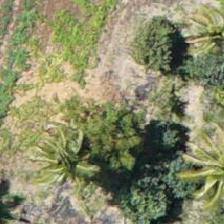coconut_tree: (6, 113, 96, 203), (173, 0, 223, 79)
